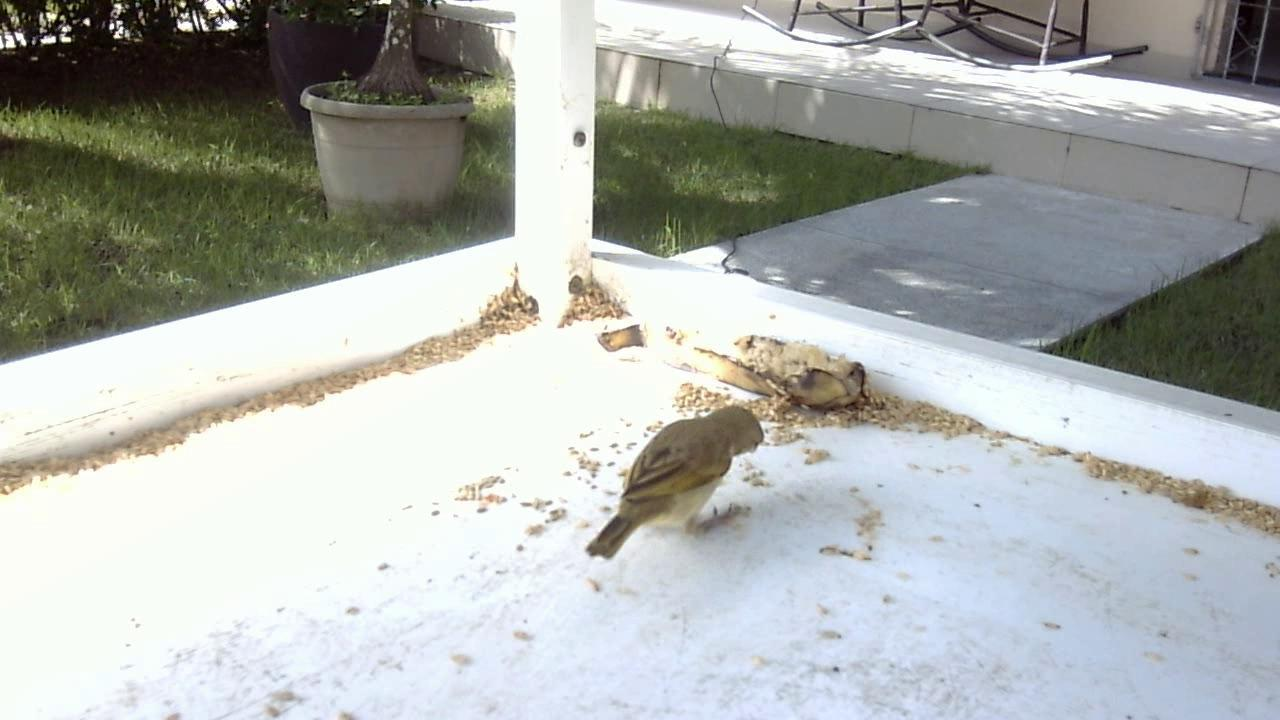canario_do_amazonas: (580, 398, 773, 565)
